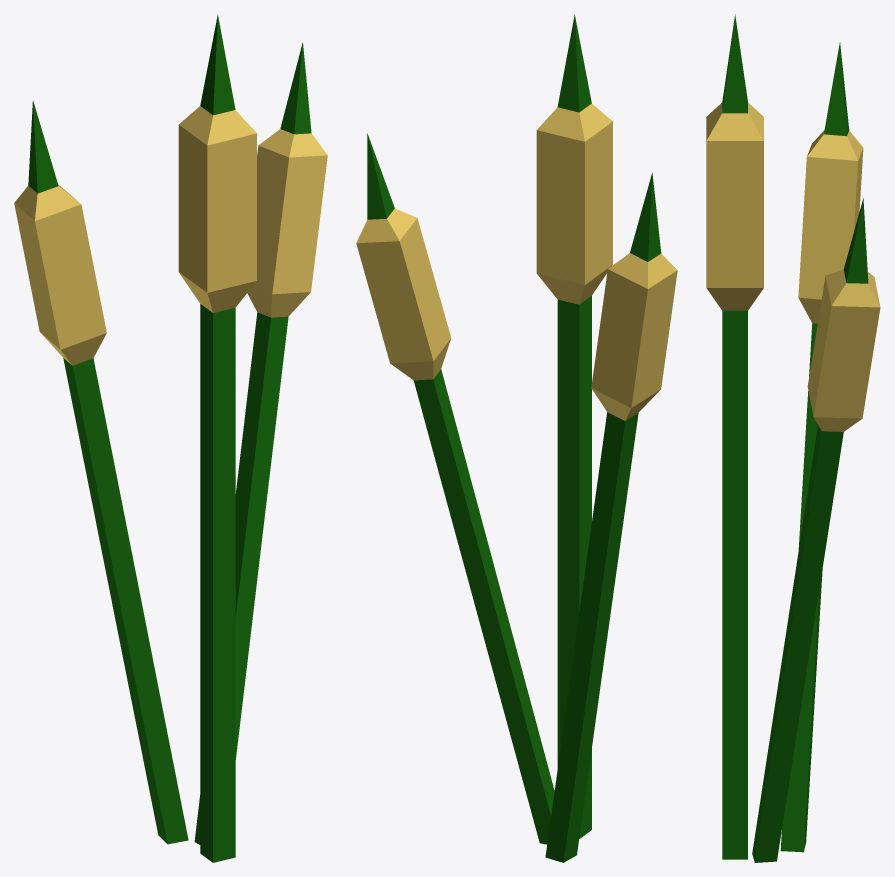
File: Reeds FBX.fbx
3 views of the same model, side by side, from view 1: azimuth 30°, elevation 25°; view 2: azimuth 150°, elevation 25°; view 3: azimuth 270°, elevation 25° (orthographic). The views are drawn at different scales.
Parts seen in each view (by area): view 1: Reed 2, Reed 3, Reed 1; view 2: Reed 2, Reed 3, Reed 1; view 3: Reed 2, Reed 1, Reed 3.
Boxes of the visible parts, bbox=[...] form: Reed 2: bbox=[178, 14, 256, 862]; Reed 3: bbox=[14, 100, 188, 844]; Reed 1: bbox=[194, 42, 327, 844]; Reed 2: bbox=[536, 14, 612, 838]; Reed 3: bbox=[545, 172, 677, 862]; Reed 1: bbox=[356, 133, 554, 844]; Reed 2: bbox=[706, 14, 763, 859]; Reed 1: bbox=[752, 198, 880, 862]; Reed 3: bbox=[780, 42, 863, 852].
Size of the model in its own units: 25.94 by 68.92 by 12.93.
